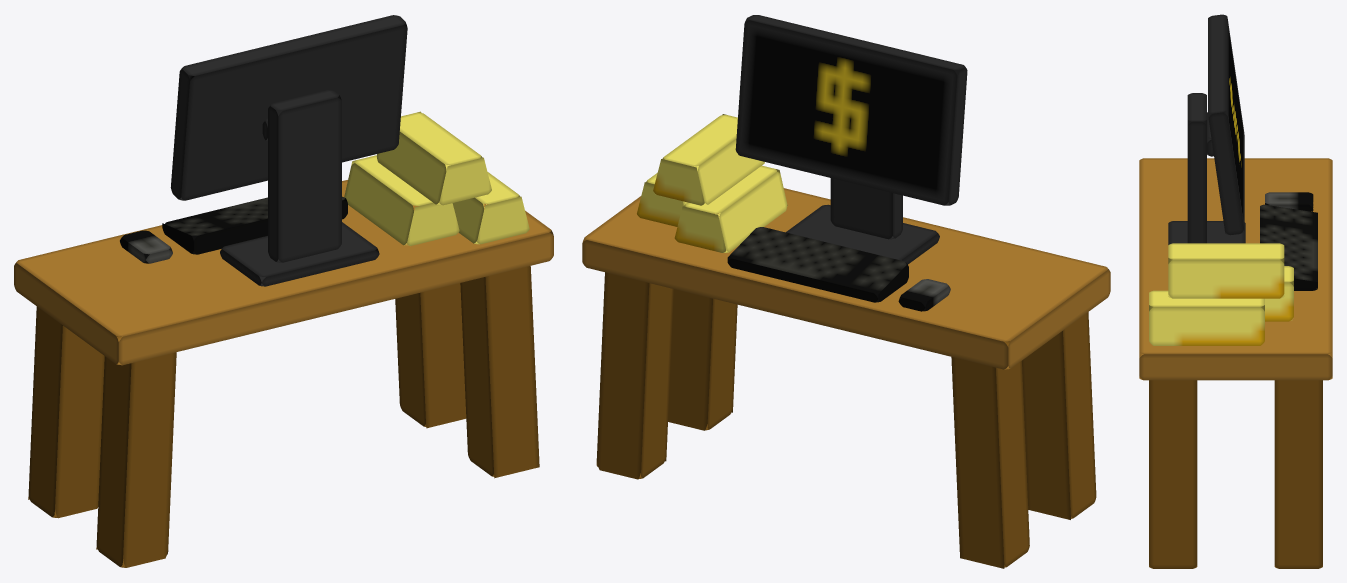
3 views of the same model, side by side, from view 1: azimuth 30°, elevation 25°; view 2: azimuth 150°, elevation 25°; view 3: azimuth 270°, elevation 25° (orthographic). The views are drawn at different scales.
Visible parts, largest first — view 1: cuboid, cuboid_1, cuboid_7, cuboid_10, cuboid_8, cuboid_2, cuboid_9, cuboid_13, cuboid_12, cuboid_4, cuboid_6, cuboid_11 (+1 smaller); view 2: cuboid, cuboid_1, cuboid_8, cuboid_9, cuboid_7, cuboid_10, cuboid_6, cuboid_13, cuboid_12, cuboid_4, cuboid_2, cuboid_11 (+1 smaller); view 3: cuboid, cuboid_9, cuboid_10, cuboid_13, cuboid_1, cuboid_11, cuboid_6, cuboid_2, cuboid_4, cuboid_12, cuboid_5.
Boxes of the visible parts, x1=… form: cuboid: x1=14, y1=180, x2=553, y2=365; cuboid_1: x1=170, y1=15, x2=407, y2=200; cuboid_7: x1=96, y1=336, x2=176, y2=567; cuboid_10: x1=460, y1=266, x2=539, y2=478; cuboid_8: x1=28, y1=306, x2=104, y2=518; cuboid_2: x1=268, y1=90, x2=341, y2=262; cuboid_9: x1=395, y1=283, x2=466, y2=428; cuboid_13: x1=376, y1=111, x2=491, y2=205; cuboid_12: x1=344, y1=155, x2=459, y2=245; cuboid_4: x1=220, y1=222, x2=379, y2=286; cuboid_6: x1=162, y1=196, x2=347, y2=254; cuboid_11: x1=445, y1=164, x2=529, y2=244; cuboid: x1=582, y1=188, x2=1110, y2=369; cuboid_1: x1=735, y1=15, x2=967, y2=205; cuboid_8: x1=951, y1=341, x2=1029, y2=568; cuboid_9: x1=596, y1=272, x2=673, y2=479; cuboid_7: x1=1022, y1=312, x2=1096, y2=519; cuboid_10: x1=668, y1=289, x2=737, y2=430; cuboid_6: x1=727, y1=227, x2=908, y2=302; cuboid_13: x1=653, y1=114, x2=764, y2=205; cuboid_12: x1=674, y1=165, x2=787, y2=252; cuboid_4: x1=786, y1=204, x2=939, y2=264; cuboid_2: x1=830, y1=178, x2=902, y2=239; cuboid_11: x1=637, y1=166, x2=698, y2=226; cuboid: x1=1139, y1=158, x2=1332, y2=380; cuboid_9: x1=1274, y1=380, x2=1322, y2=568; cuboid_10: x1=1149, y1=380, x2=1197, y2=568; cuboid_13: x1=1168, y1=243, x2=1284, y2=298; cuboid_1: x1=1208, y1=14, x2=1244, y2=235; cuboid_11: x1=1149, y1=290, x2=1264, y2=345; cuboid_6: x1=1260, y1=204, x2=1317, y2=290; cuboid_2: x1=1187, y1=93, x2=1206, y2=243; cuboid_4: x1=1168, y1=221, x2=1245, y2=244; cuboid_12: x1=1265, y1=266, x2=1293, y2=321; cuboid_5: x1=1265, y1=192, x2=1313, y2=211.
Size of the model in its own units: 300 by 294 by 125.
1 material, 1 textured.
